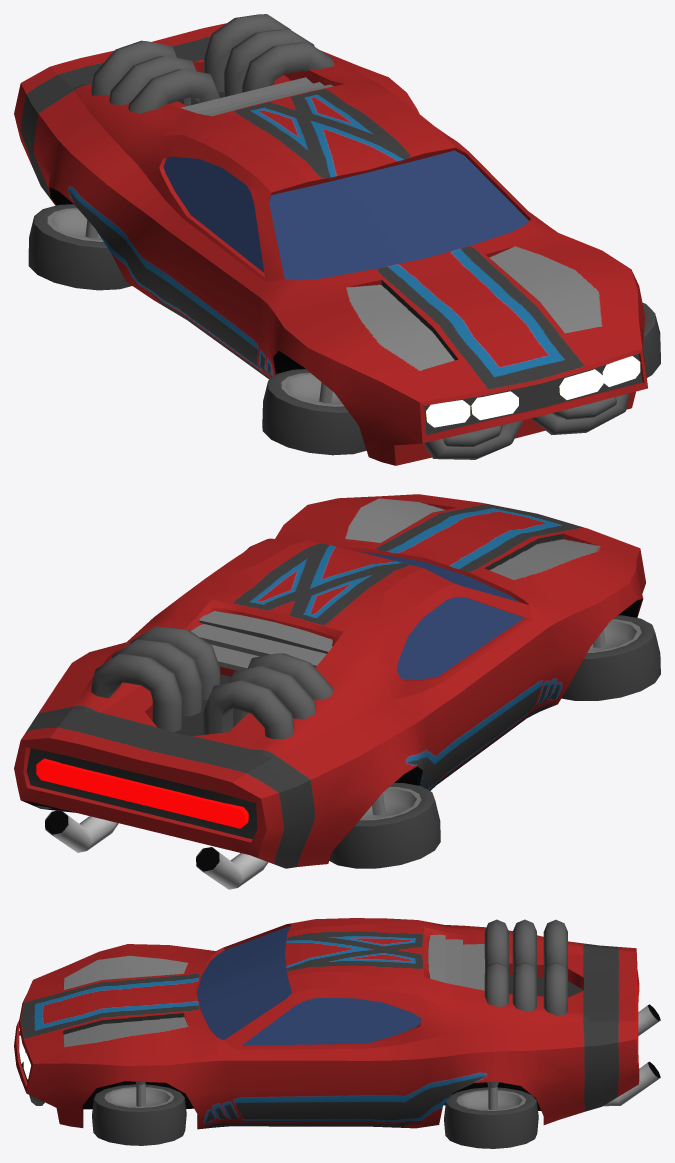
The model's file is HoverCar.fbx.
The picture shows the model from 3 angles, top to bottom: view 1: azimuth 30°, elevation 25°; view 2: azimuth 150°, elevation 25°; view 3: azimuth 270°, elevation 25°; orthographic projection. The views are drawn at different scales.
Visible parts, largest first — view 1: Hovercar, HoverCarWheel-FR, HoverCarWheel-BR, HoverCarWheel-FL; view 2: Hovercar, HoverCarWheel-BR, HoverCarWheel-FR; view 3: Hovercar, HoverCarWheel-BL, HoverCarWheel-FL.
Part boxes in pixels (x1,y1,x2,y2): Hovercar: (14, 14, 647, 465); HoverCarWheel-FR: (262, 369, 366, 455); HoverCarWheel-BR: (28, 204, 131, 290); HoverCarWheel-FL: (642, 303, 660, 377); Hovercar: (14, 494, 645, 889); HoverCarWheel-BR: (329, 783, 440, 868); HoverCarWheel-FR: (561, 615, 660, 700); Hovercar: (14, 918, 660, 1129); HoverCarWheel-BL: (444, 1081, 538, 1148); HoverCarWheel-FL: (92, 1081, 186, 1145).
Size of the model in its own units: 266 by 115 by 483.
